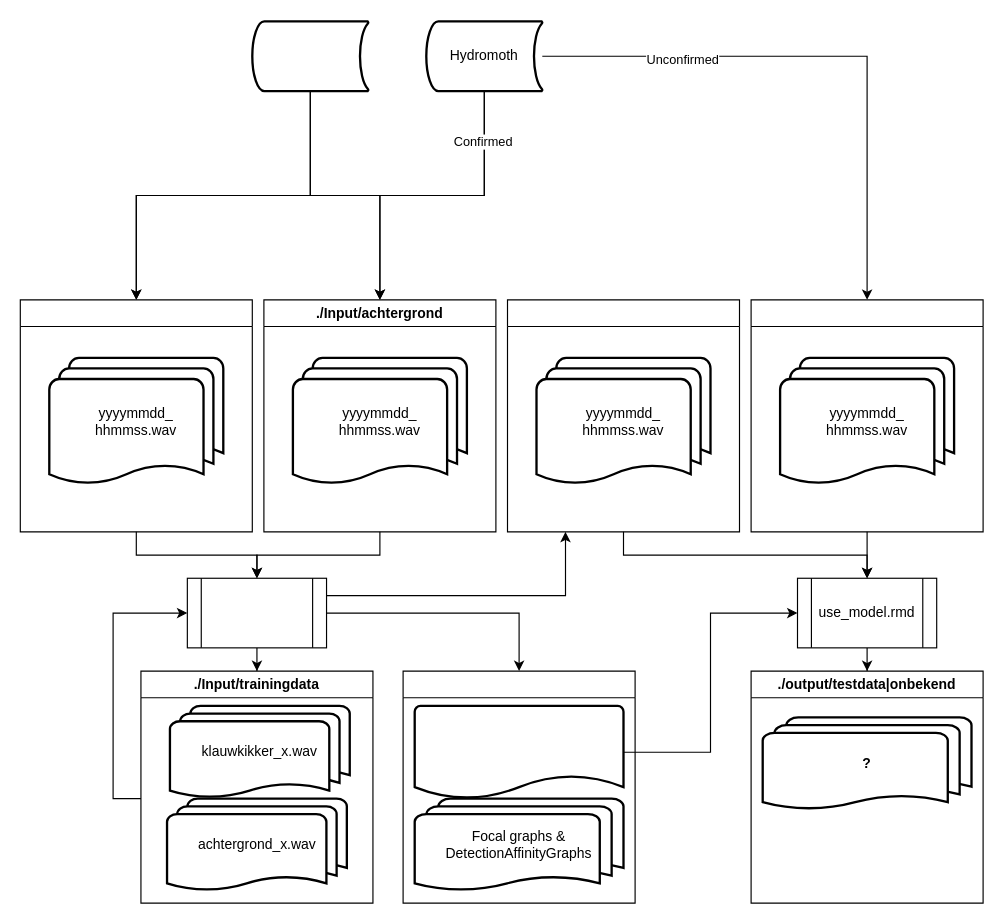
Some shapes in this 1003 by 923 pixel diagram are drawn without their labels. The shapes that lost their labels are listed below. From the top down, each one's box as (x1, y1, x2, y2) in pixels, then its label:
(251, 20, 369, 92): Other online sources
(19, 299, 252, 532): ./Input/klauwkikker
(506, 299, 740, 532): ./Input/testdata
(750, 299, 983, 532): ./Input/onbekend
(186, 577, 327, 648): train_model.rmd
(413, 704, 624, 799): trained_model.rda
(402, 670, 635, 903): ./output/
